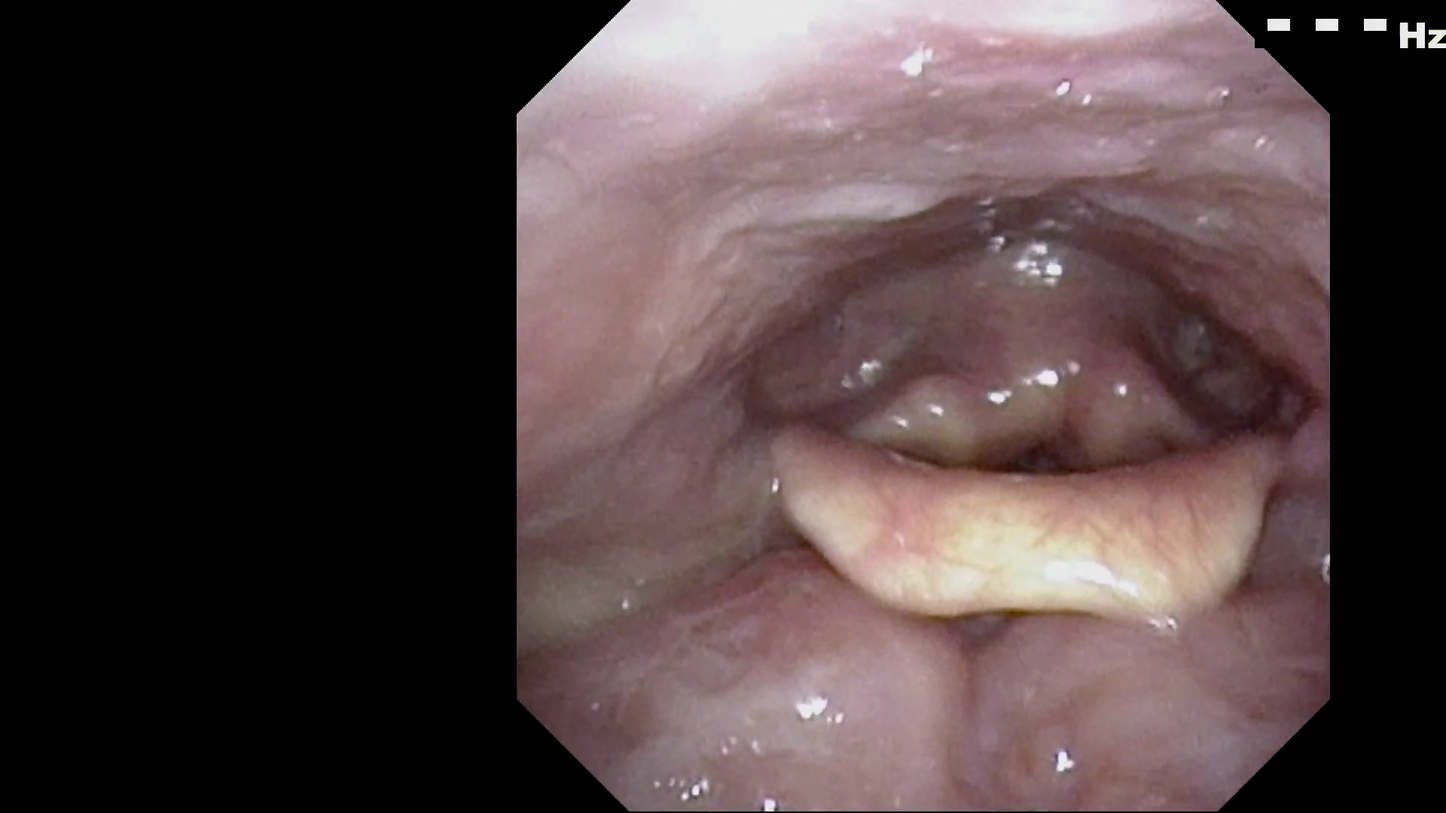epiglottis: (758, 388, 1301, 628)
trachea: (960, 380, 1107, 535)
